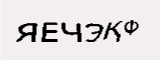В: (75, 22, 86, 39)
Л: (59, 20, 71, 39)
Н: (103, 24, 122, 43), (42, 21, 56, 41)
Т: (86, 27, 102, 41)
